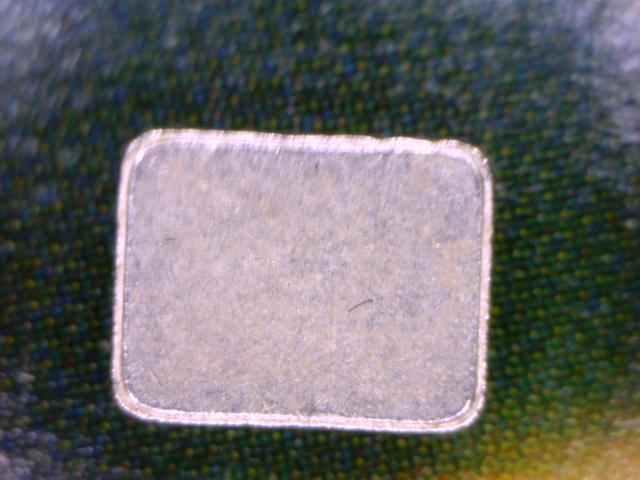nok: (103, 119, 499, 439)
